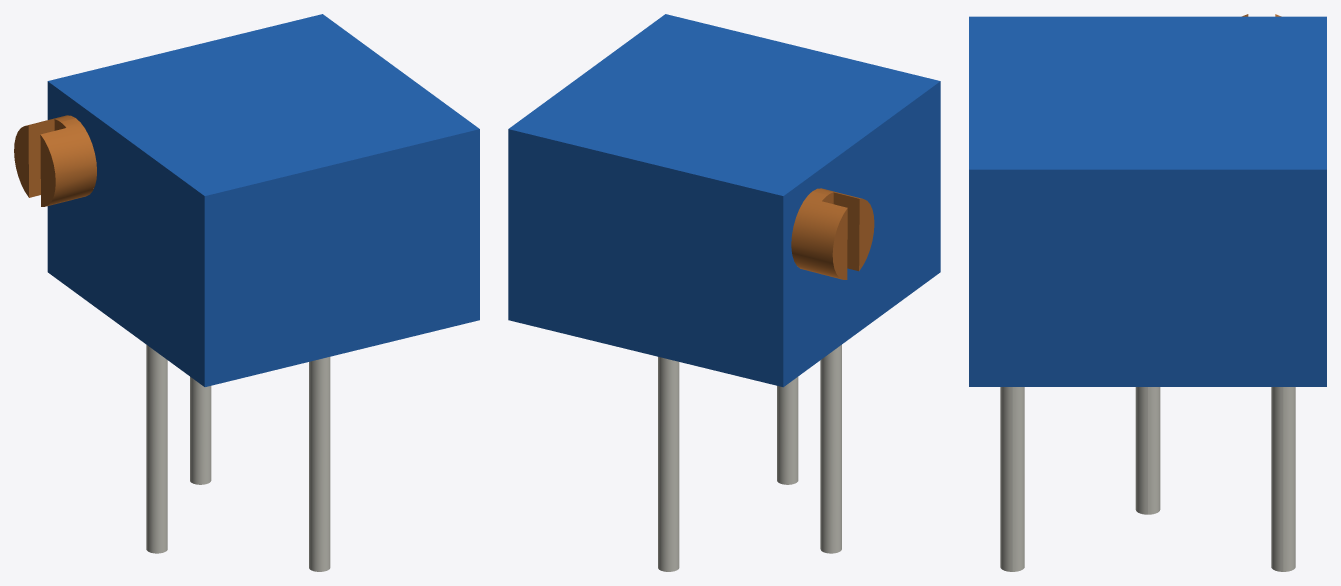
Rendered from kc-potentiometer_bourns_3266p_horizontal.glb.
3 views of the same model, side by side, from view 1: azimuth 30°, elevation 25°; view 2: azimuth 150°, elevation 25°; view 3: azimuth 270°, elevation 25° (orthographic). The views are drawn at different scales.
Parts seen in each view (by area): view 1: 0_0.16666666666666666_0.5_0, 0.6666666666666666_0.6666666666666666_0.5833333333333334_0.8, 0.5_0.16666666666666666_0_0; view 2: 0_0.16666666666666666_0.5_0, 0.6666666666666666_0.6666666666666666_0.5833333333333334_0.8, 0.5_0.16666666666666666_0_0; view 3: 0_0.16666666666666666_0.5_0, 0.6666666666666666_0.6666666666666666_0.5833333333333334_0.8.
Boxes of the visible parts, box(x1,y1,x2,y2) form: 0_0.16666666666666666_0.5_0: box(47, 14, 479, 386); 0.6666666666666666_0.6666666666666666_0.5833333333333334_0.8: box(146, 345, 330, 571); 0.5_0.16666666666666666_0_0: box(14, 115, 96, 206); 0_0.16666666666666666_0.5_0: box(508, 14, 940, 387); 0.6666666666666666_0.6666666666666666_0.5833333333333334_0.8: box(658, 345, 841, 571); 0.5_0.16666666666666666_0_0: box(791, 188, 874, 279); 0_0.16666666666666666_0.5_0: box(969, 16, 1326, 386); 0.6666666666666666_0.6666666666666666_0.5833333333333334_0.8: box(1000, 387, 1295, 571).
Bounding box in the file's own units: 0.7807 × 0.984 × 0.671.
